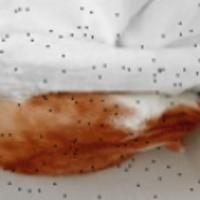asleep: (0, 91, 200, 178)
